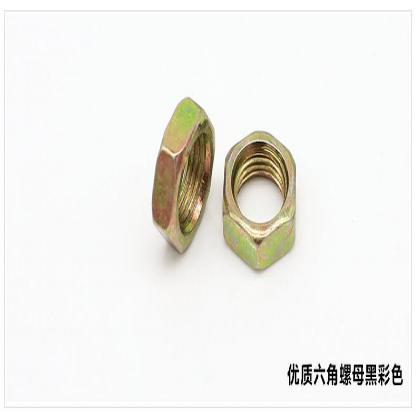FOD: (222, 127, 298, 272), (151, 94, 217, 259)
